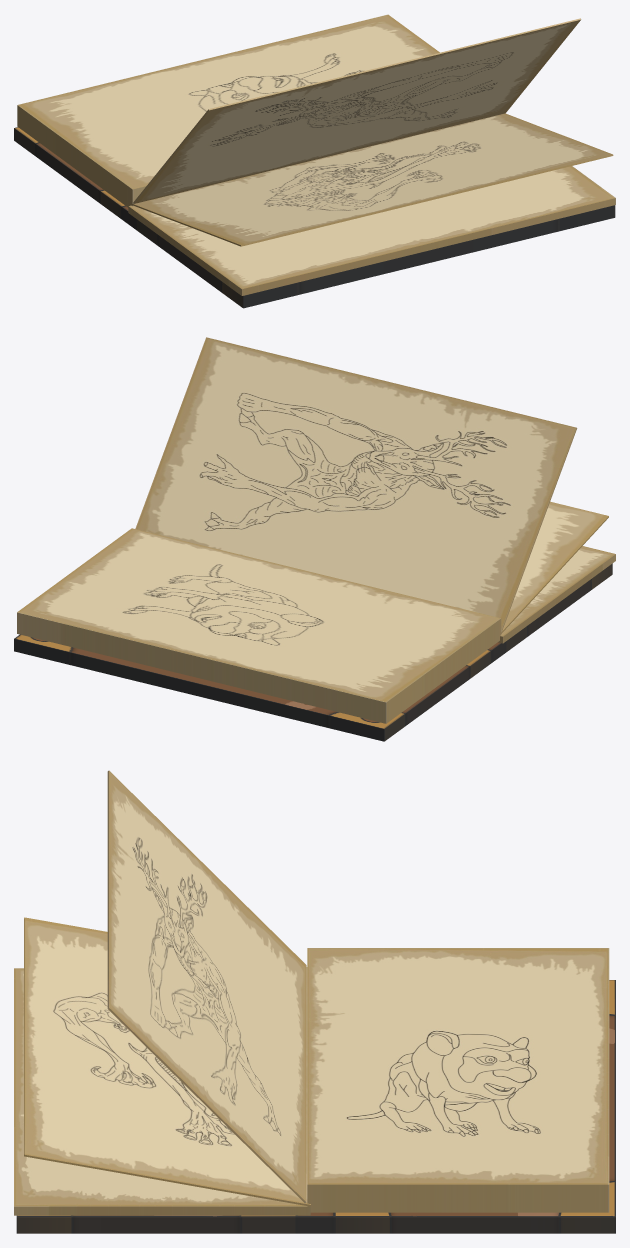
Rendered from anverbook.gltf.
3 views of the same model, one above another, from view 1: azimuth 30°, elevation 25°; view 2: azimuth 150°, elevation 25°; view 3: azimuth 270°, elevation 25° (orthographic). The views are drawn at different scales.
Parts seen in each view (by area): view 1: Box001; view 2: Box001; view 3: Box001.
Boxes of the visible parts, x1,y1,x2,y2 form: Box001: (14,14,615,308); Box001: (14,337,615,741); Box001: (14,770,615,1233).
Size of the model in its own units: 0.7796 by 0.3441 by 0.8289.
Materials: 5 (5 with a texture image).
